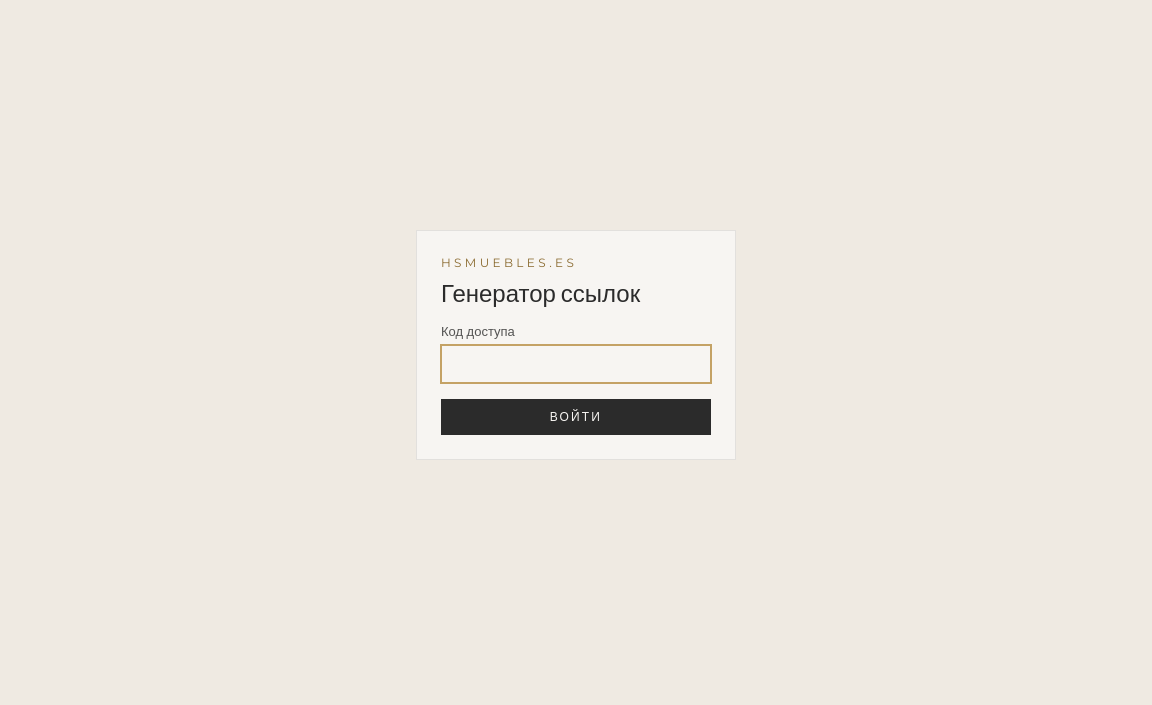
Test case: UtmBuilder — сборка ссылки › подписывает ошибку под тем полем, где она сделана
This screenshot has width=1152, height=705.
Type "777111" into the password field labelled "Код доступа" at (576, 364), box x1=441 y1=345 x2=711 y2=383
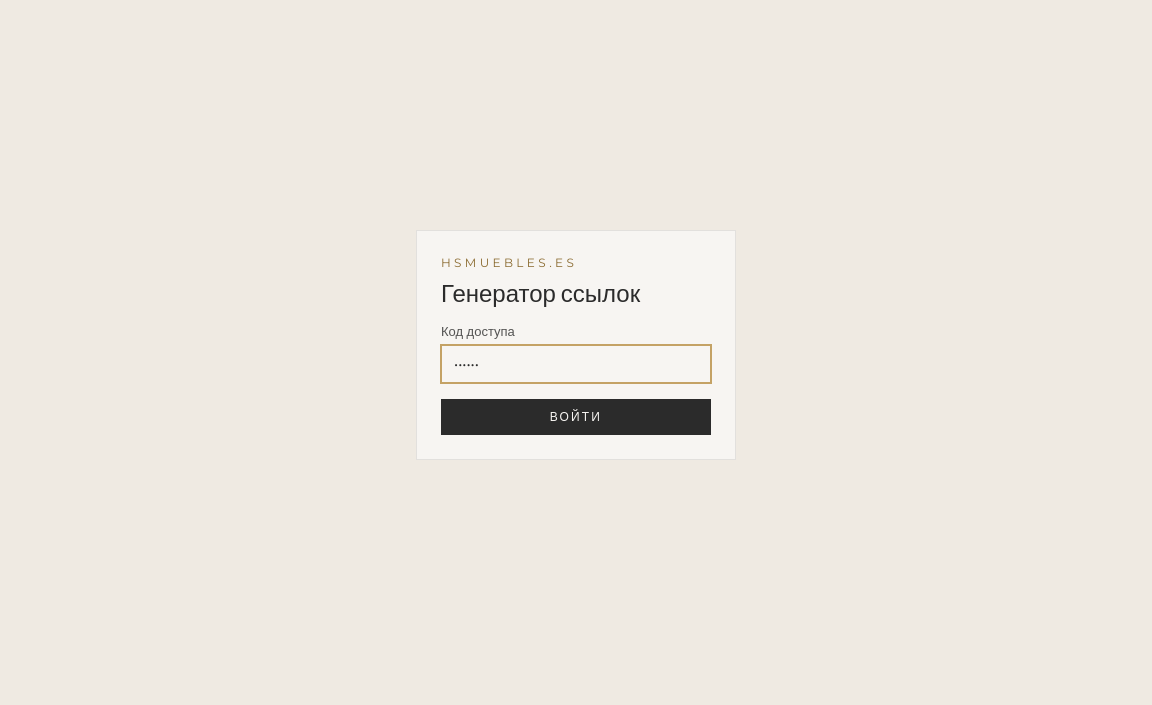
Click the button "Войти" at (576, 417), box x1=441 y1=399 x2=711 y2=435
(page scrolled)
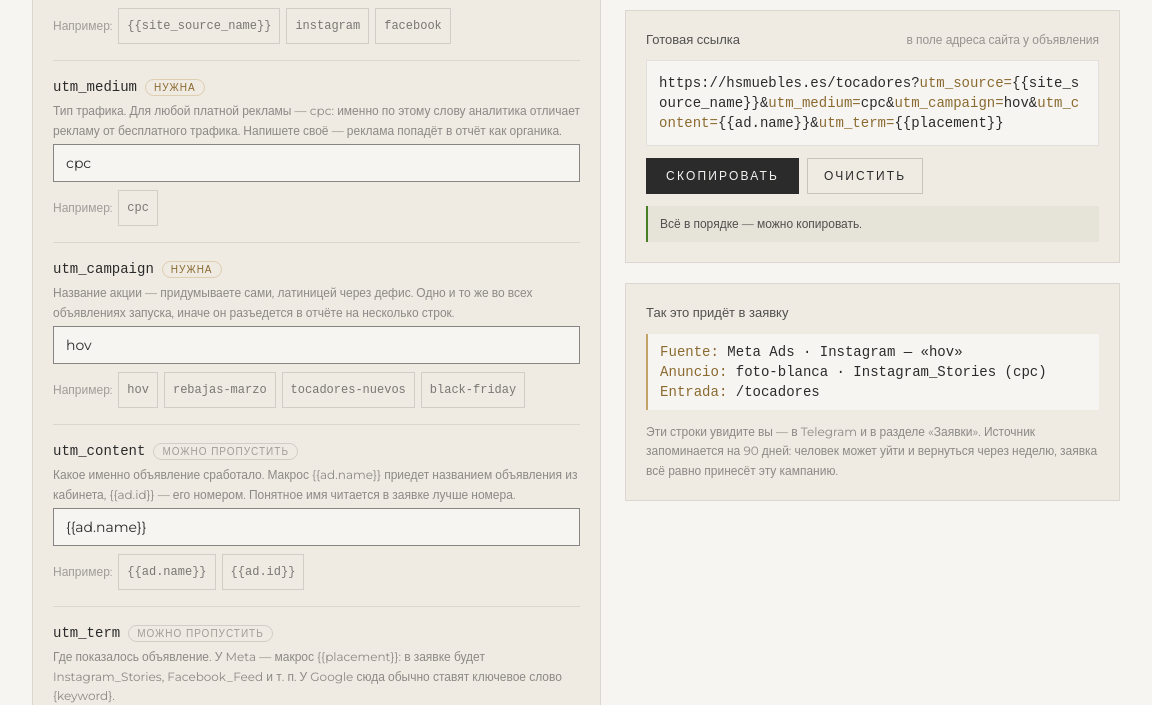
Replace the text in the field labelled "utm_campaign" with "rebajas marzo" at (317, 345), box x1=53 y1=326 x2=580 y2=364
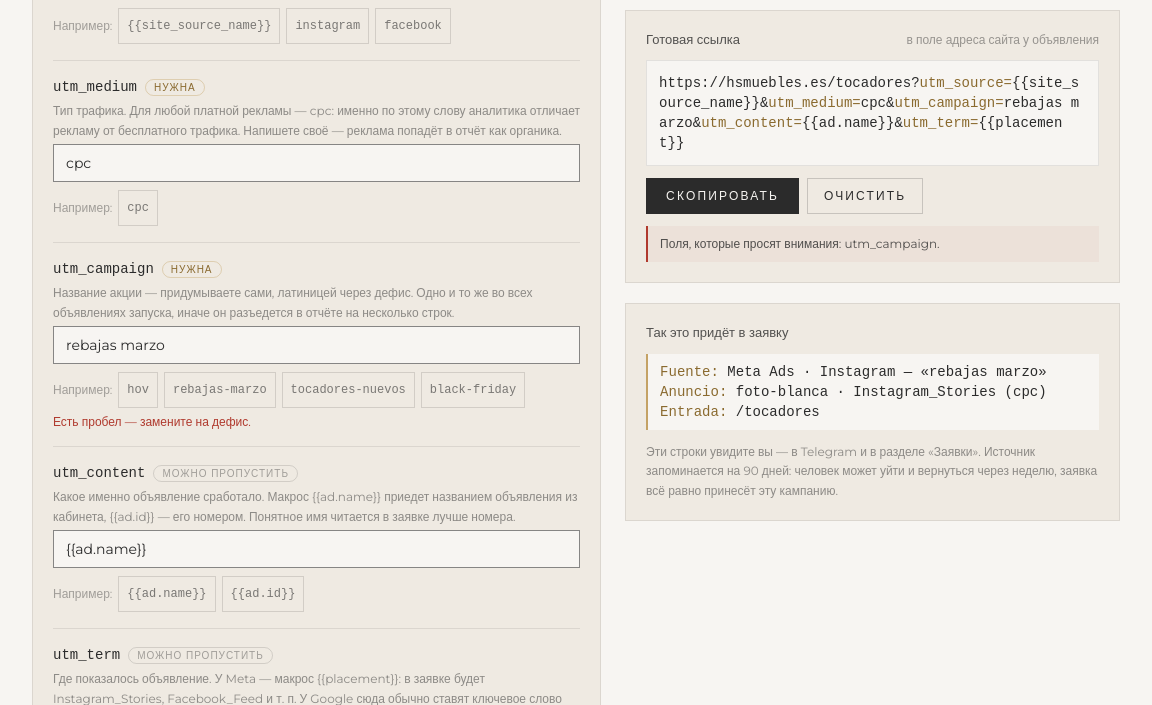
Result: the text "Есть пробел — замените на дефис." is shown at x1=53 y1=414 x2=251 y2=429
